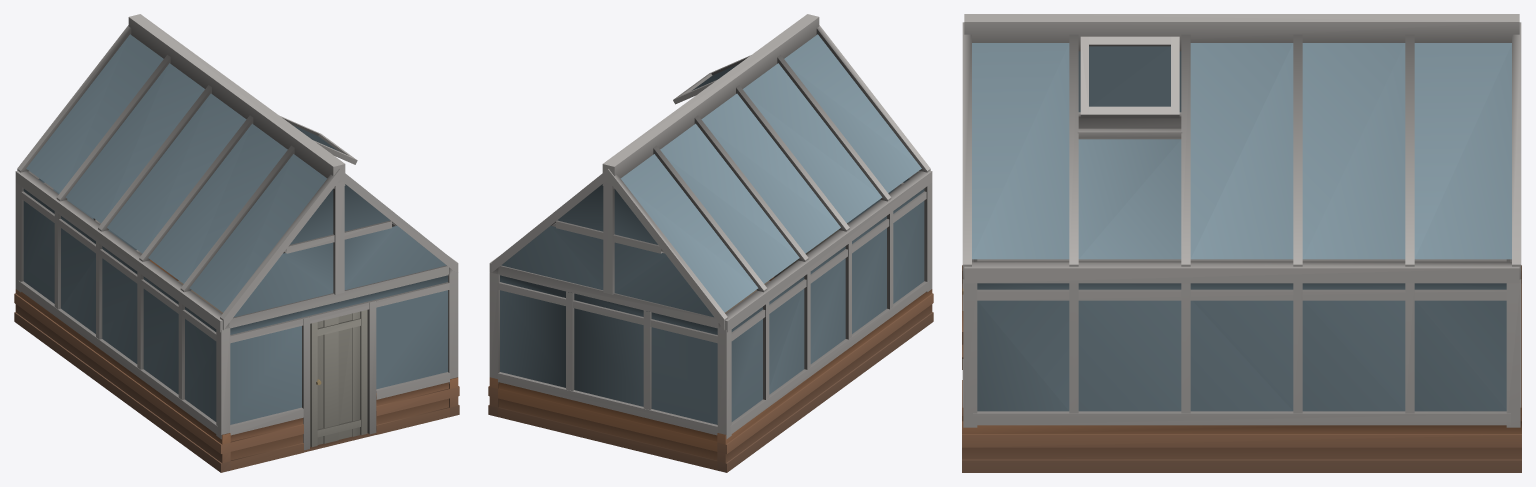
The model's file is glass.glb.
3 views of the same model, side by side, from view 1: azimuth 30°, elevation 25°; view 2: azimuth 150°, elevation 25°; view 3: azimuth 270°, elevation 25° (orthographic). The views are drawn at different scales.
Parts seen in each view (by area): view 1: glass; view 2: glass; view 3: glass.
Part boxes in pixels (x1,y1,x2,y2): glass: (14, 14, 459, 472); glass: (488, 14, 933, 472); glass: (962, 14, 1521, 472).
Bounding box in the file's own units: 6.4 × 7.12 × 9.6.
